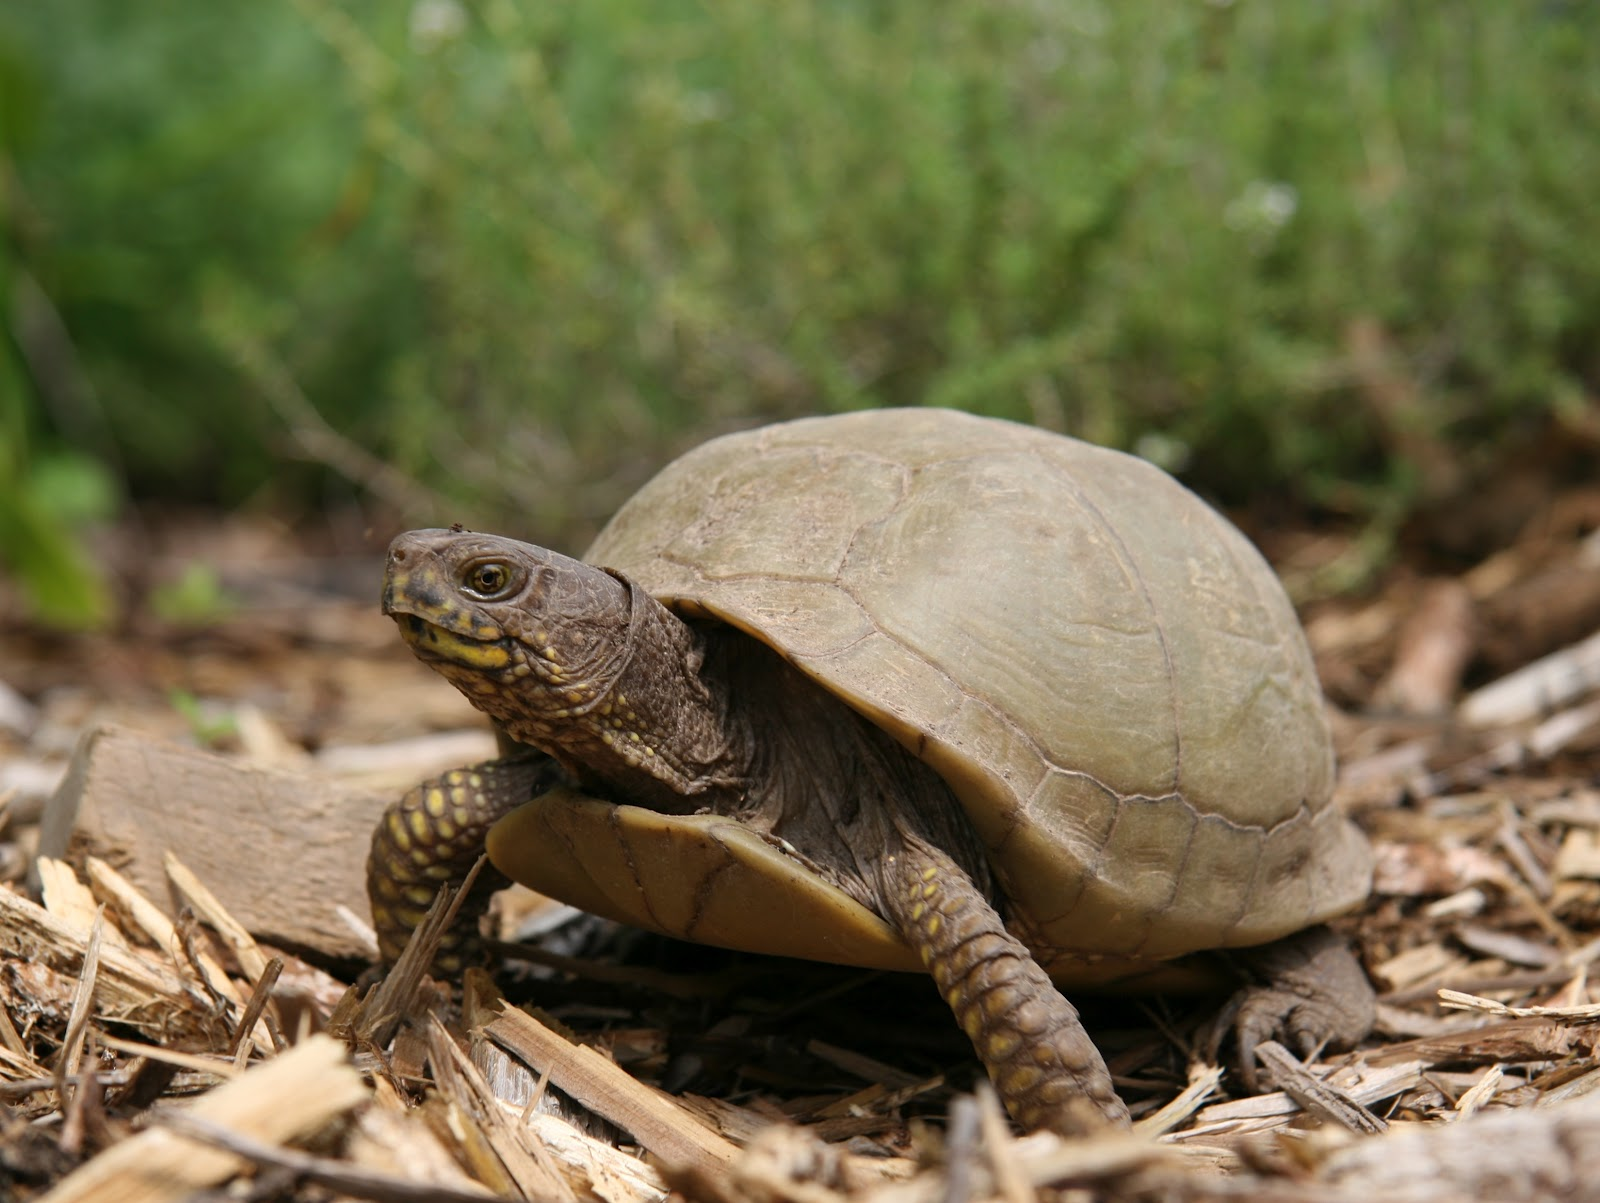eye: (447, 542, 537, 605)
mouth: (383, 600, 556, 679)
